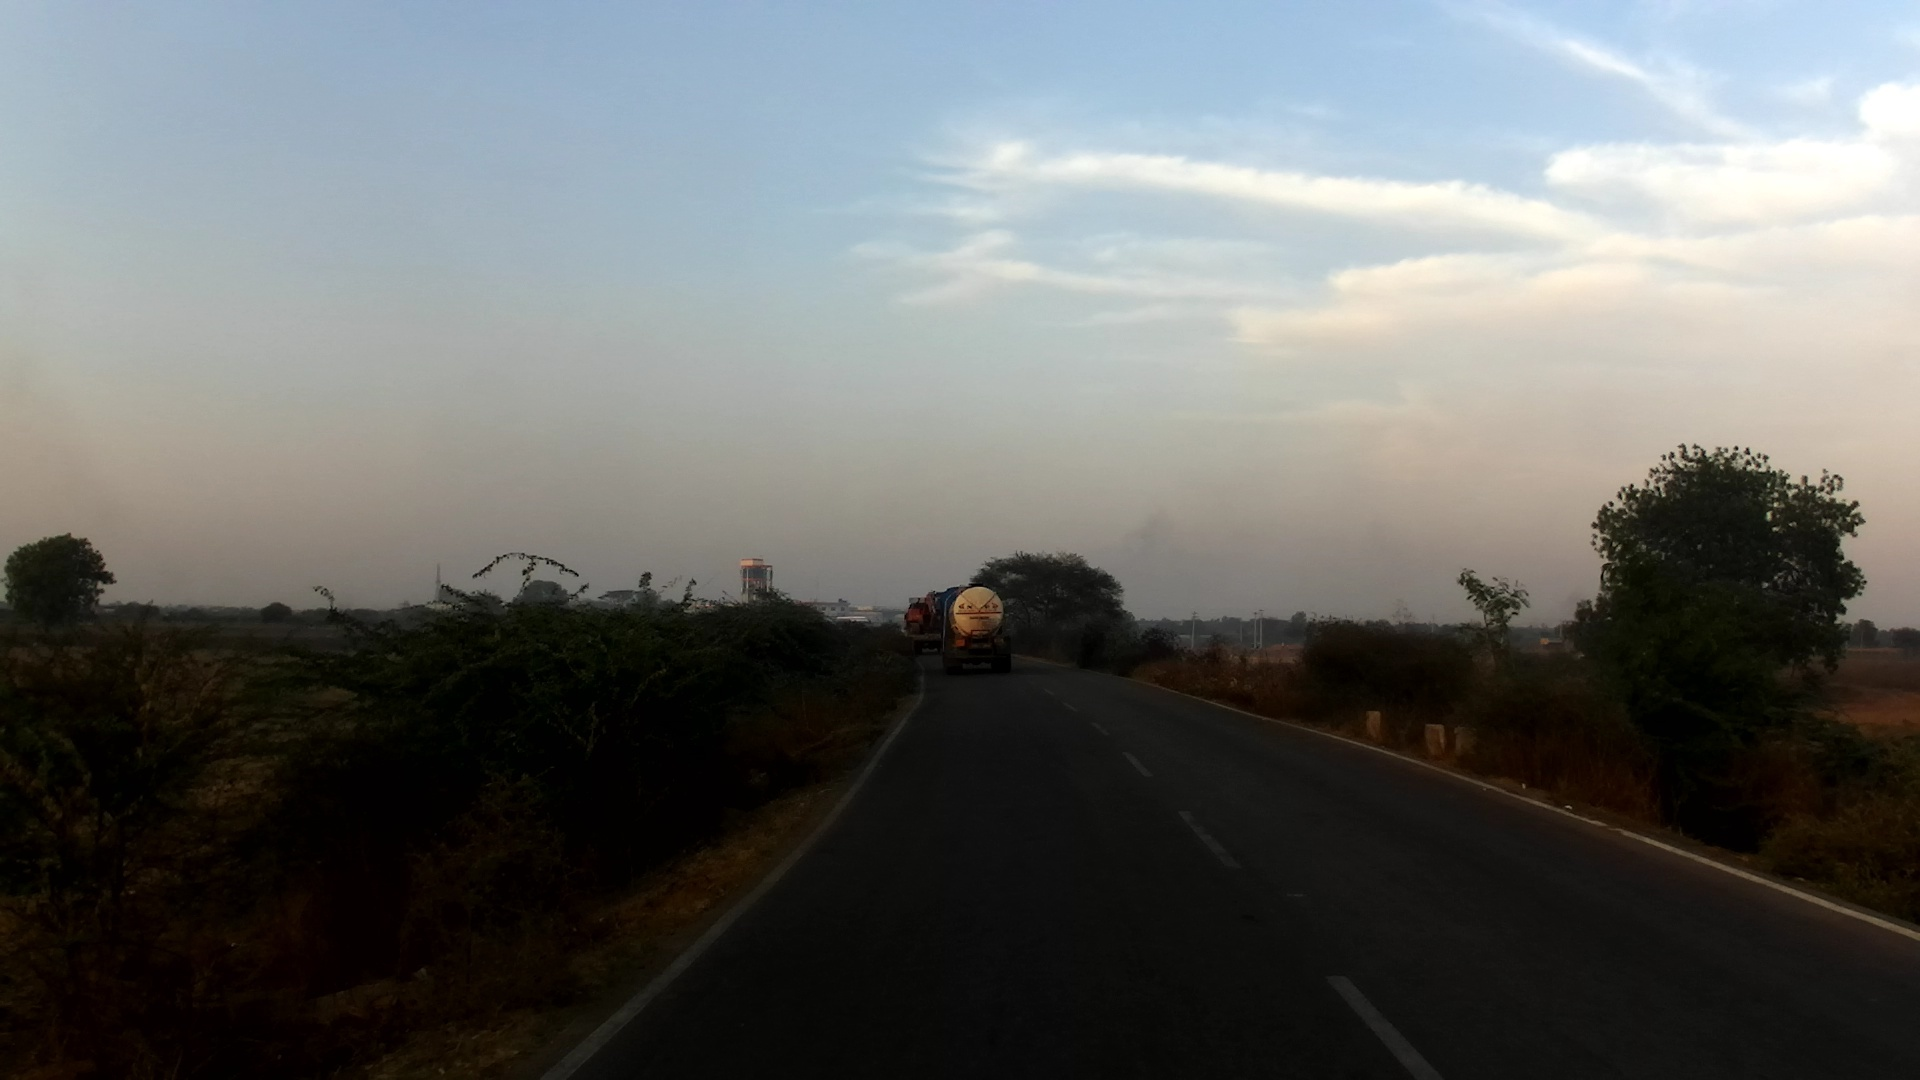truck: (938, 585, 1011, 676), (907, 593, 948, 658)
